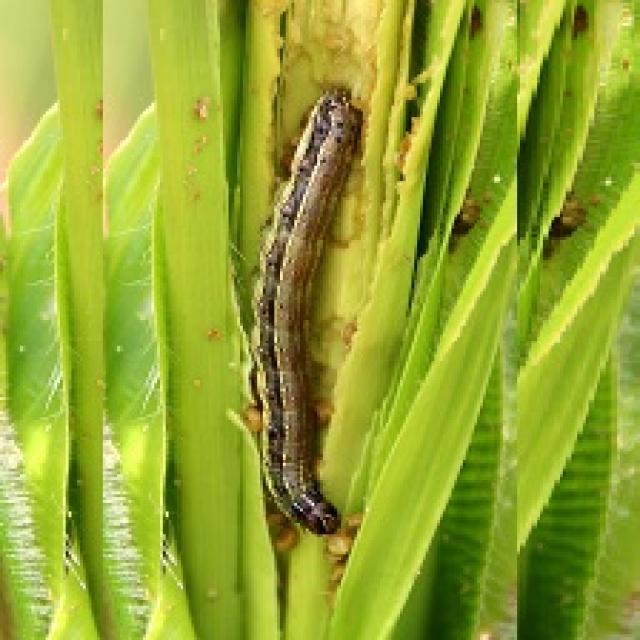worm: (249, 87, 364, 535)
